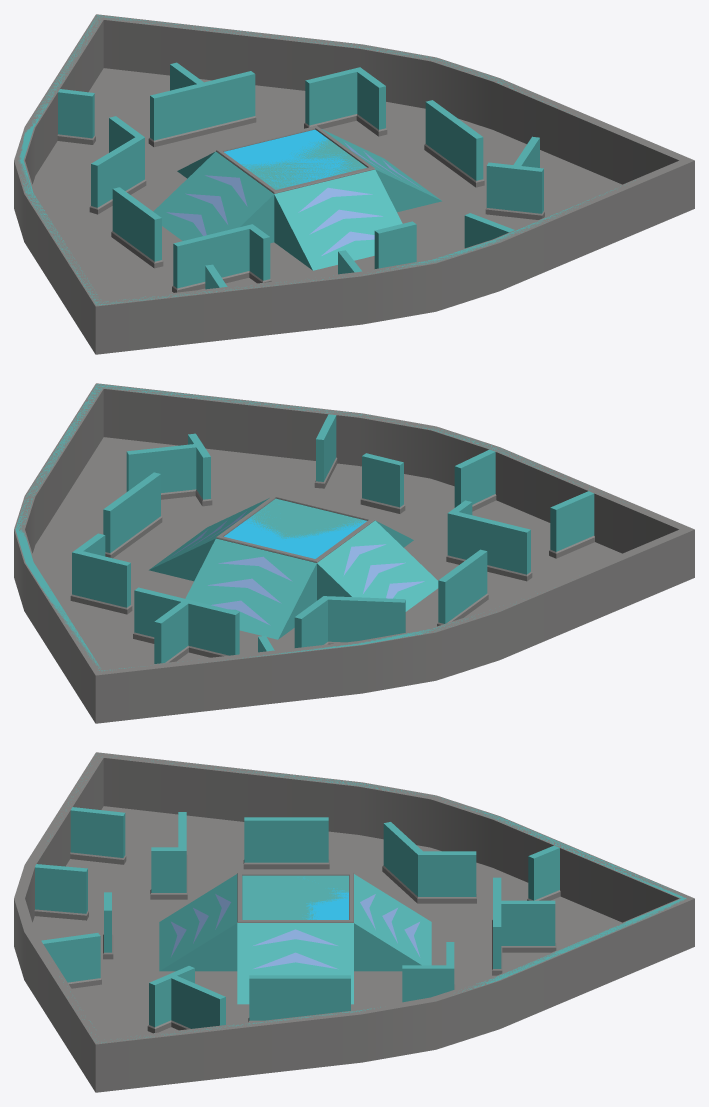
Rendered from Location11.fbx.
3 views of the same model, one above another, from view 1: azimuth 30°, elevation 25°; view 2: azimuth 150°, elevation 25°; view 3: azimuth 270°, elevation 25° (orthographic).
Visible parts, largest first — view 1: outer_wall.11, wall.11, floor.11, bridge.11, water.11, border.11; view 2: outer_wall.11, wall.11, floor.11, bridge.11, water.11, border.11; view 3: outer_wall.11, wall.11, floor.11, bridge.11, border.11, water.11.
Boxes of the visible parts, x1,y1,x2,y2 form: outer_wall.11: (14, 14, 694, 354); wall.11: (18, 15, 635, 305); floor.11: (32, 68, 621, 300); bridge.11: (153, 129, 441, 270); water.11: (224, 129, 359, 189); border.11: (216, 125, 374, 193); outer_wall.11: (14, 383, 694, 723); wall.11: (15, 384, 602, 671); floor.11: (32, 437, 621, 669); bridge.11: (149, 498, 438, 639); water.11: (224, 507, 366, 558); border.11: (216, 494, 374, 562); outer_wall.11: (14, 752, 694, 1092); wall.11: (34, 755, 686, 1043); floor.11: (32, 806, 621, 1038); bridge.11: (159, 874, 431, 1004); border.11: (237, 872, 353, 922); water.11: (302, 877, 348, 919).
Bounding box in the file's own units: 2372 × 188 × 2335.
